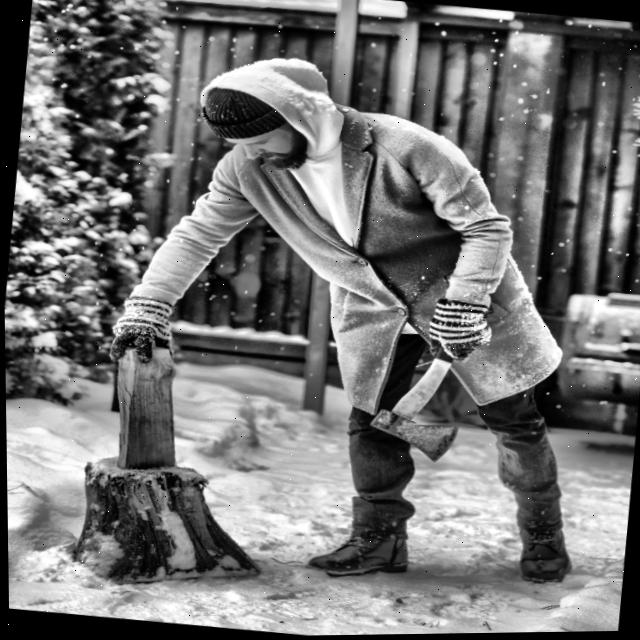kapak: (347, 305, 480, 476)
